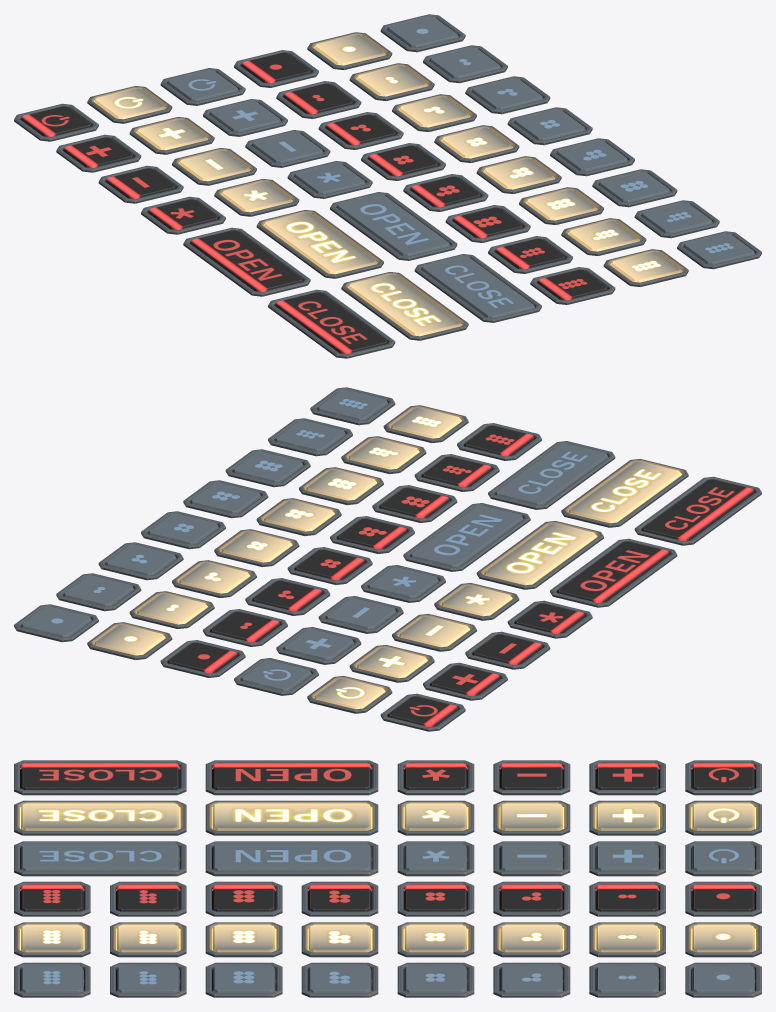
Rendered from 3DUIUX.glb.
The picture shows the model from 3 angles, top to bottom: view 1: azimuth 30°, elevation 25°; view 2: azimuth 150°, elevation 25°; view 3: azimuth 270°, elevation 25°; orthographic projection. The views are drawn at different scales.
Parts seen in each view (by area): view 1: buttons_2_export; view 2: buttons_2_export; view 3: buttons_2_export.
Boxes of the visible parts, bbox=[...] form: buttons_2_export: bbox=[14, 14, 761, 358]; buttons_2_export: bbox=[14, 387, 761, 731]; buttons_2_export: bbox=[14, 760, 761, 997].
Size of the model in its own units: 29 by 0.22 by 39.
Materials: 1 (1 with a texture image).
